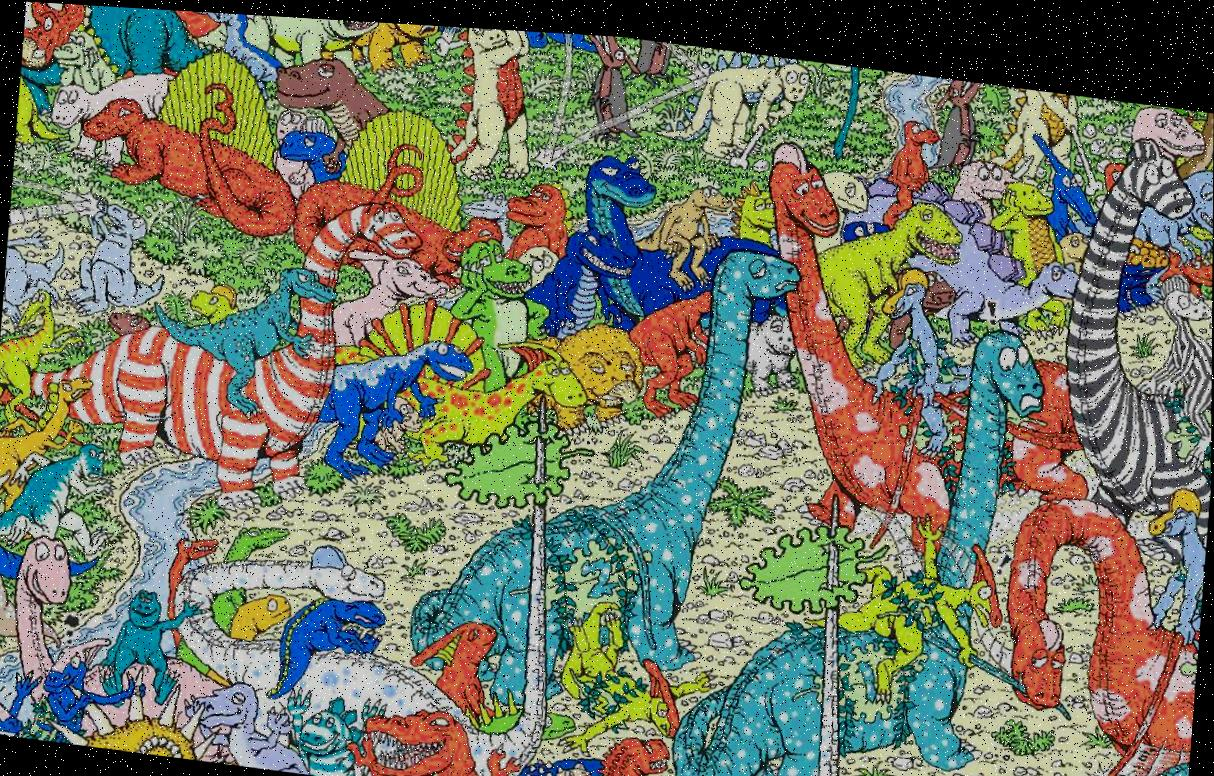waldo: (1173, 93, 1198, 103)
